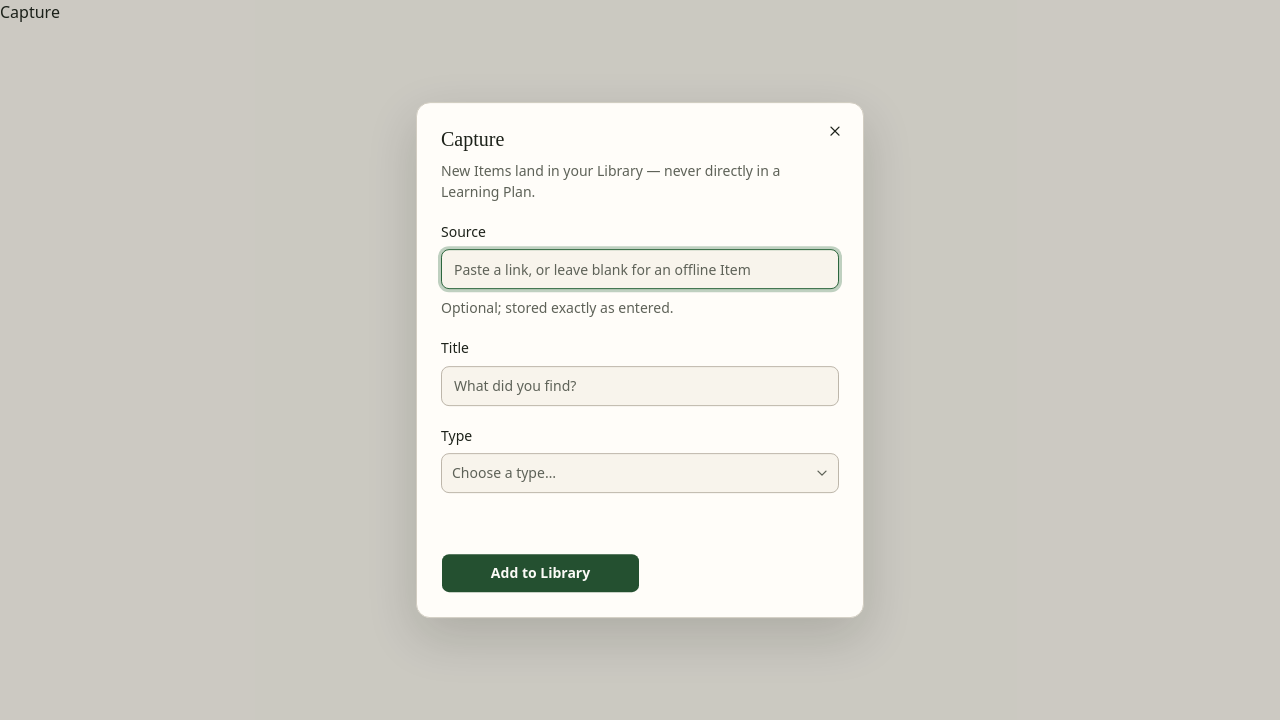
Test: global Capture › protects independently owned fields and does not treat focus as ownership
The width and height of the screenshot is (1280, 720).
Type "https://youtube.com/playlist?list=0123456789" into the field labelled "Source" at coordinates (640, 269), box [441,249,839,289]
Wait 301 ms
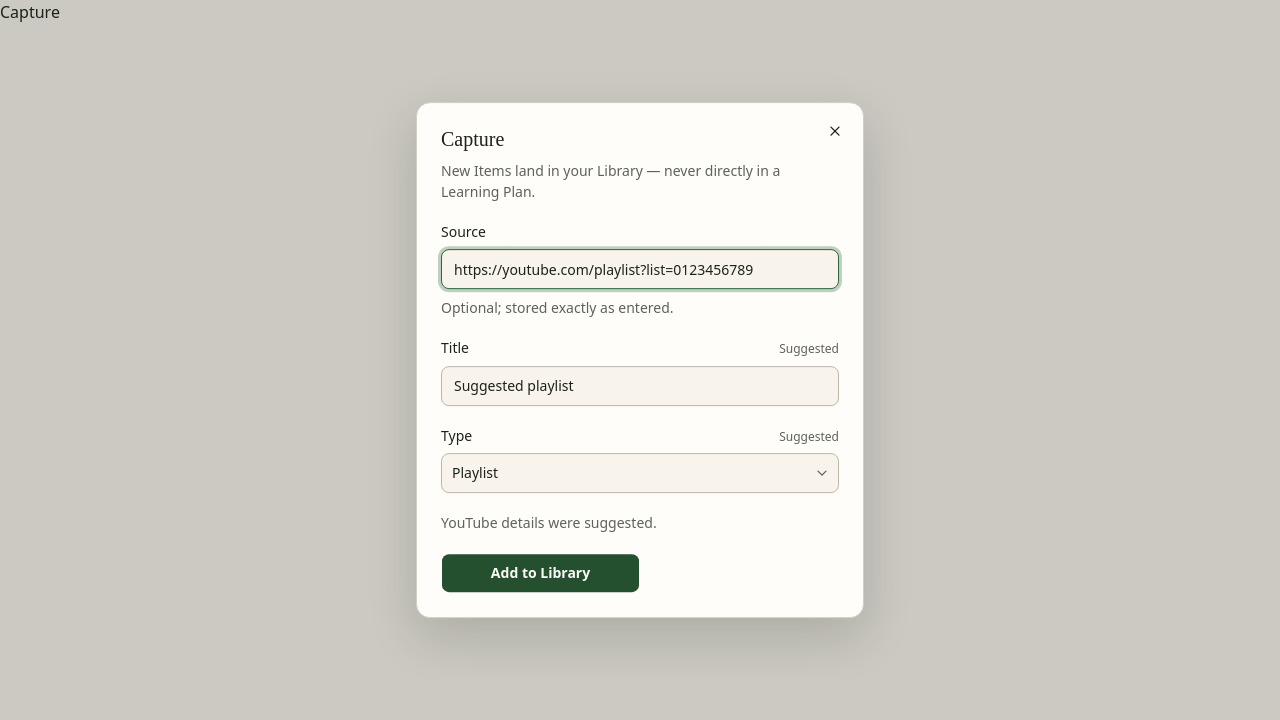
Check: the field labelled "Title" holds "Suggested playlist"
Check: the dropdown named "Type" reads "Playlist", box [441,453,839,493]
Clear the field labelled "Title" at coordinates (640, 386), box [441,366,839,406]
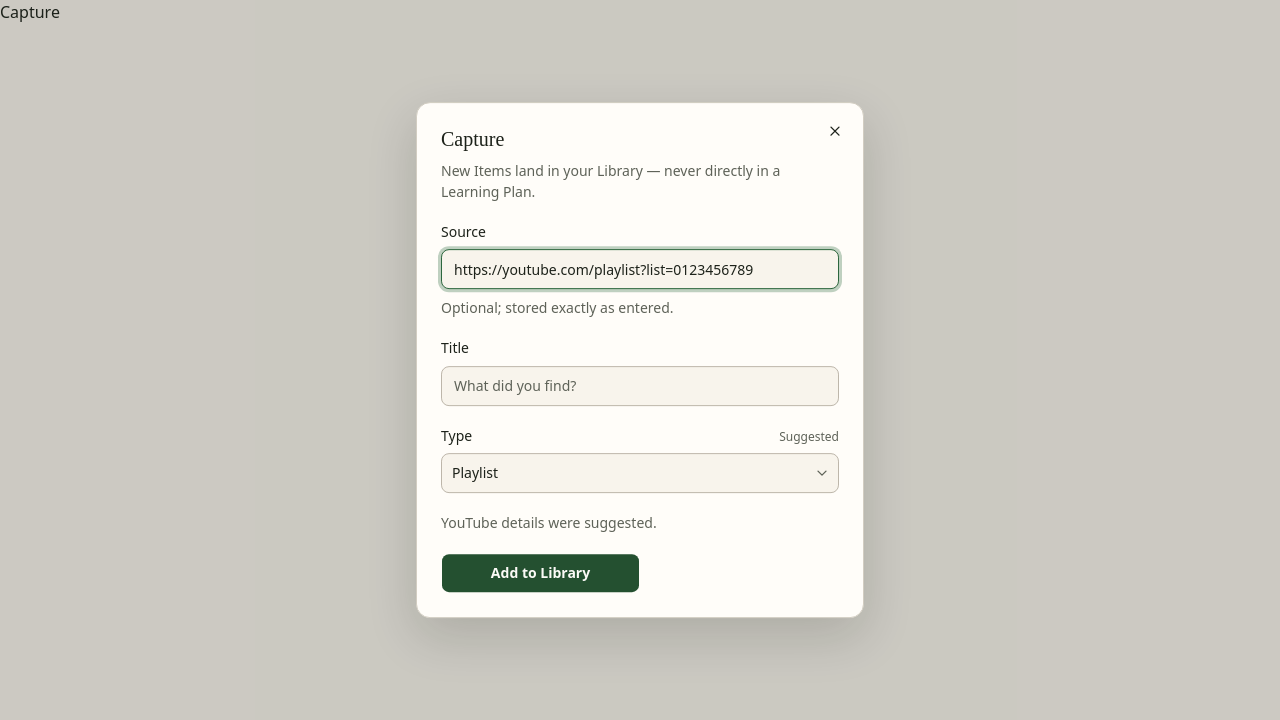
Click the dropdown named "Type" at coordinates (475, 472), box [441,453,839,493]
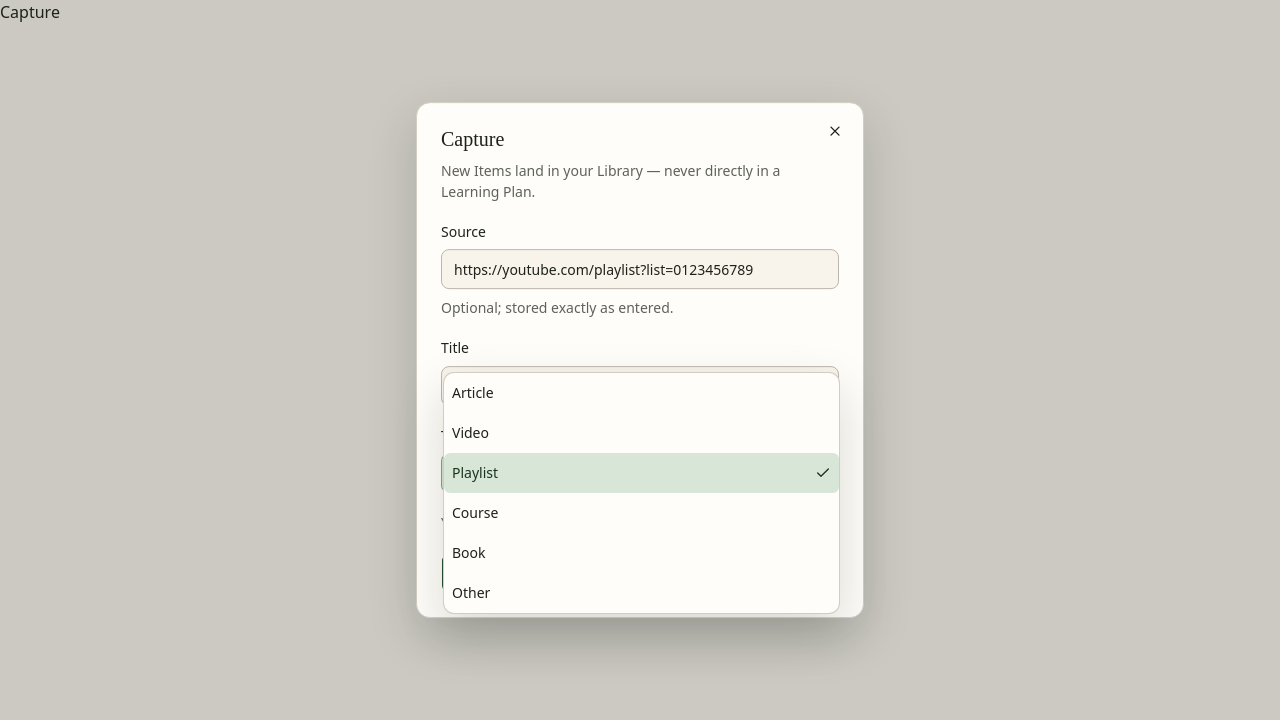
Click the option "Article" at coordinates (473, 392), box [452,383,494,402]
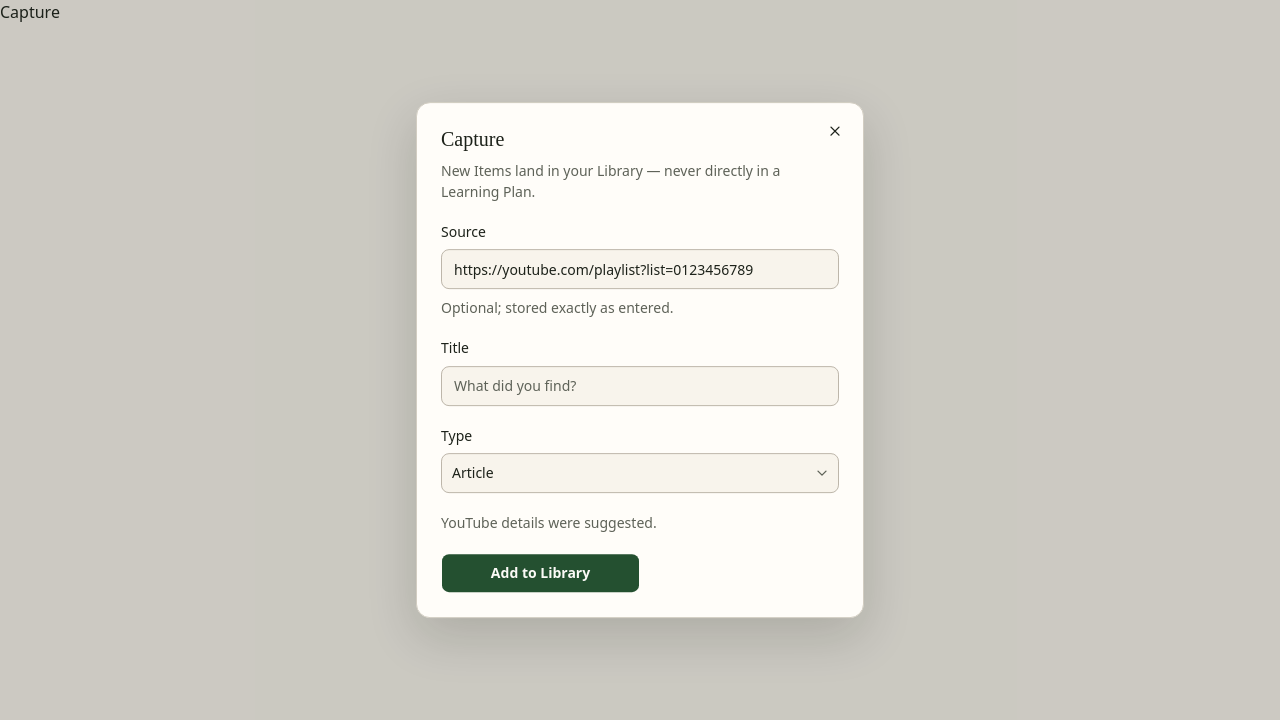
Replace the text in the field labelled "Source" with "https://youtube.com/watch?v=abcdefghijk" at coordinates (640, 269), box [441,249,839,289]
Wait 301 ms
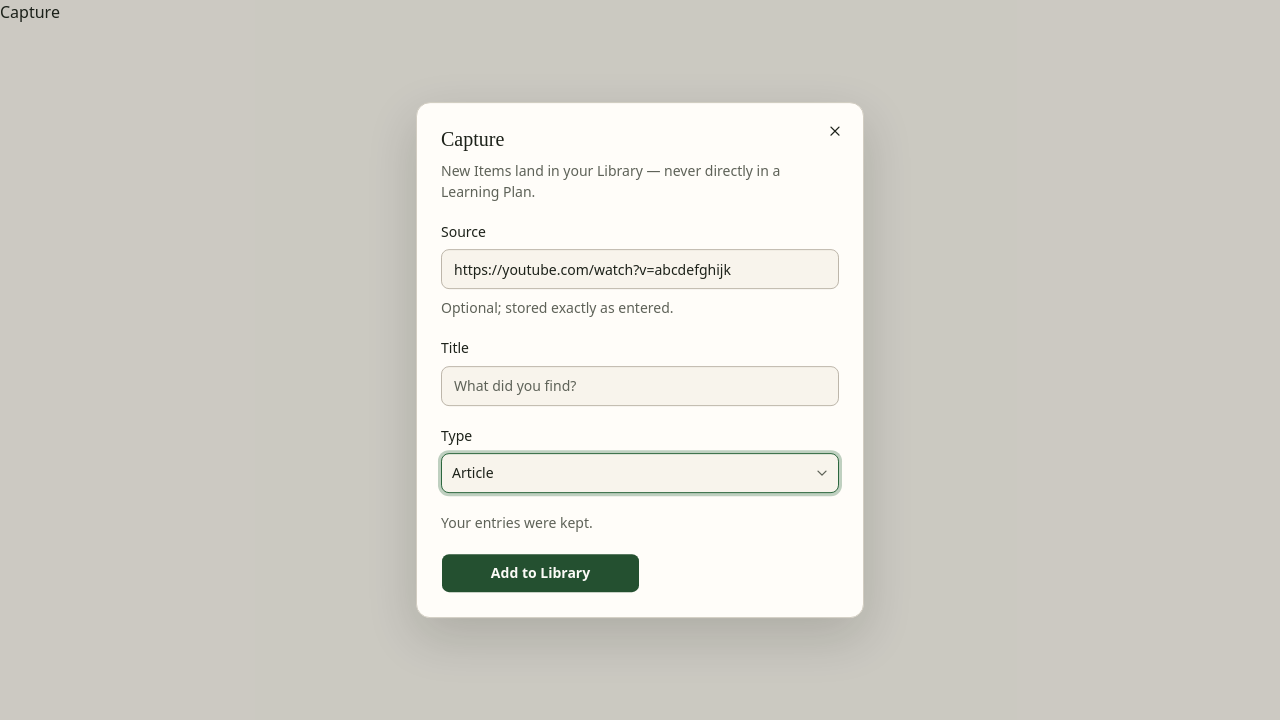
Check: the dropdown named "Type" reads "Article", box [441,453,839,493]
Check: the text "suggested" is gone
